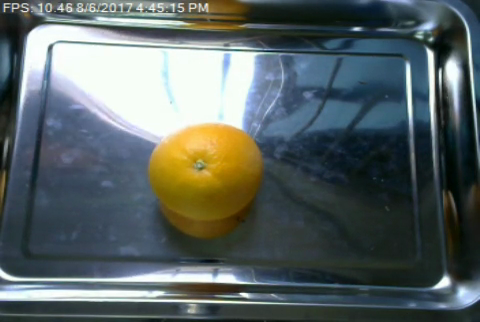Orange: (148, 122, 262, 220)
